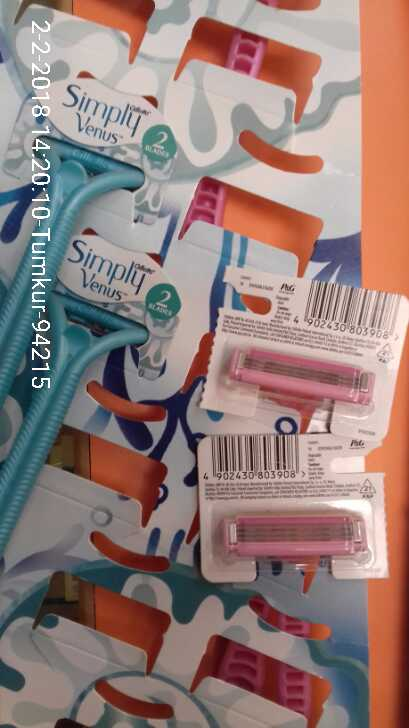venus: (9, 78, 181, 539), (209, 260, 400, 580)
